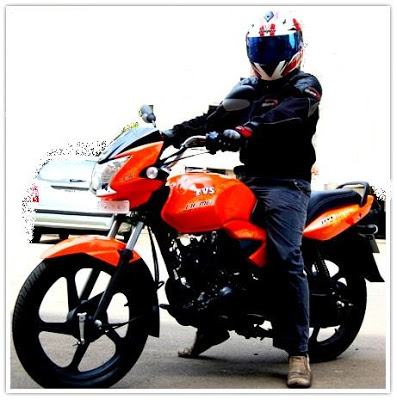helmet: (245, 12, 305, 79)
